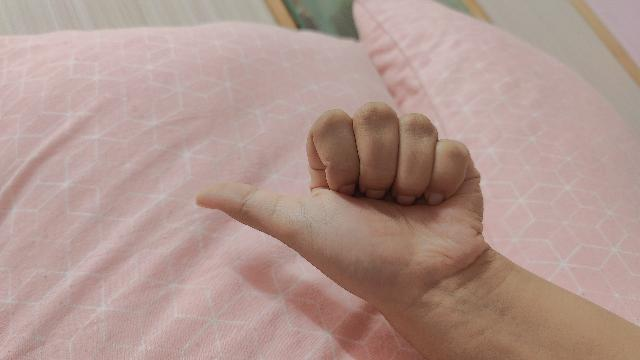shikhar: (195, 104, 640, 360)
